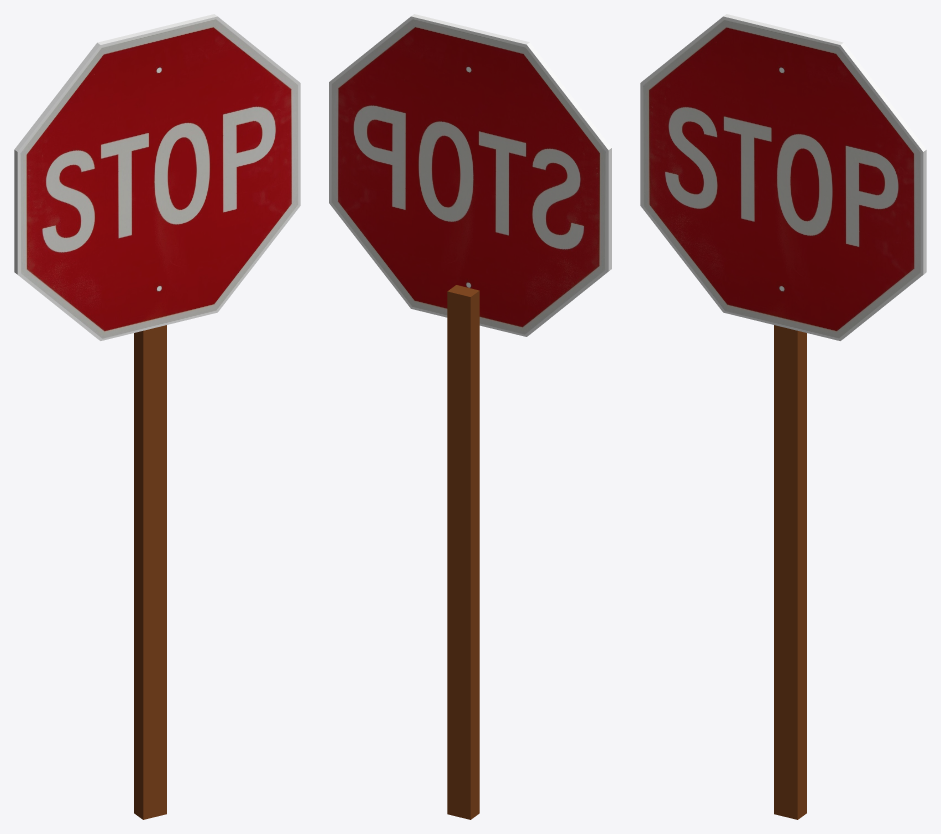
File: 36df1046-f678-4329-aa35-cdac56561648.glb
3 renders of one model, left to right at view 1: azimuth 30°, elevation 25°; view 2: azimuth 150°, elevation 25°; view 3: azimuth 330°, elevation 25°, orthographic.
Visible parts, largest first — view 1: Node; view 2: Node; view 3: Node.
Boxes of the visible parts, x1,y1,x2,y2 form: Node: (14,14,300,819); Node: (329,14,611,819); Node: (640,14,926,819).
Bounding box in the file's own units: 1.85 × 4.93 × 0.1503.
2 materials, 1 textured.
